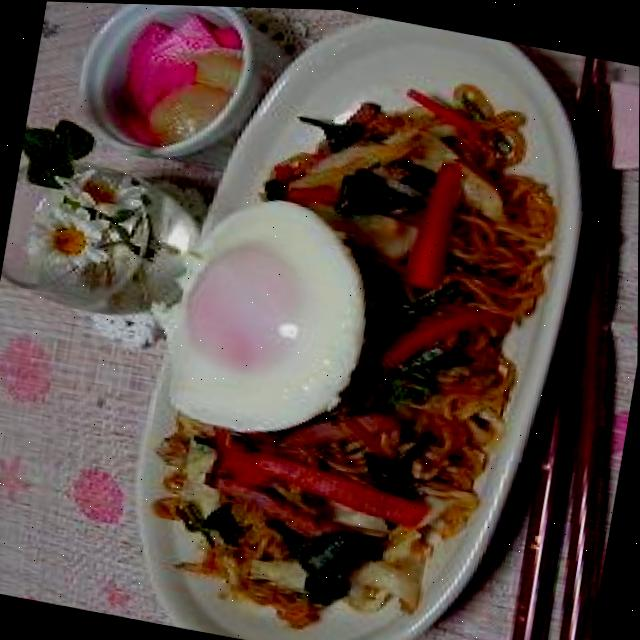鸡蛋料理: (140, 180, 377, 449)
